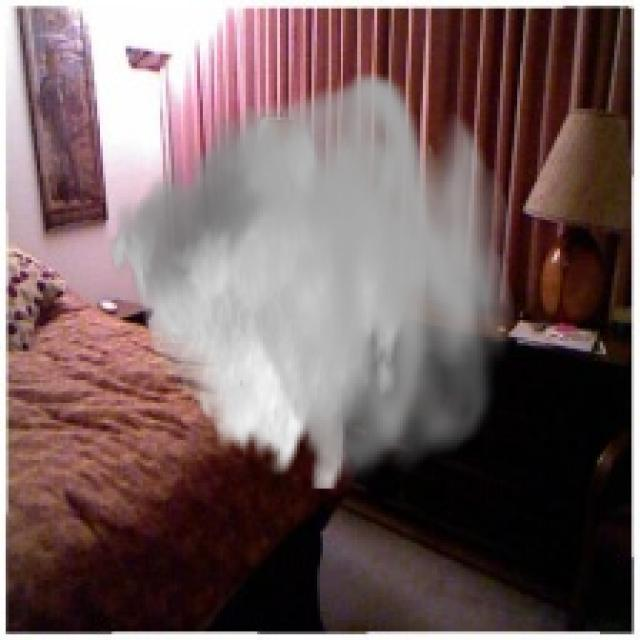Smoke: (106, 66, 514, 488)
